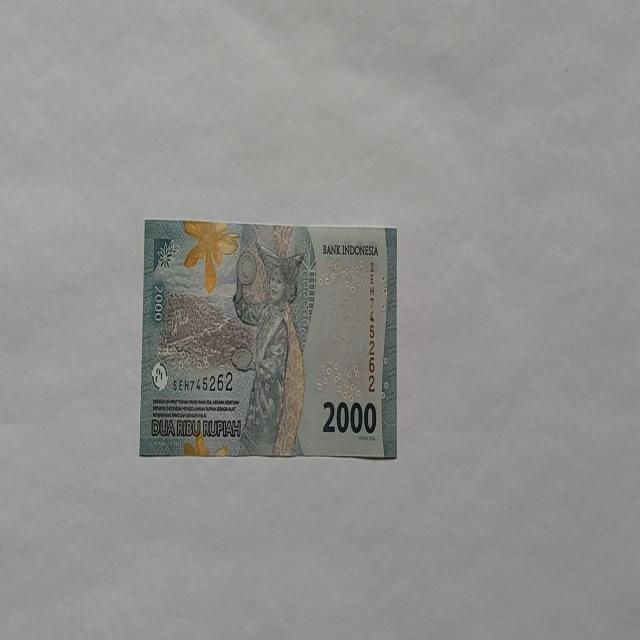dua ribu rupiah: (138, 218, 398, 461), (231, 238, 306, 456), (182, 218, 240, 294)
